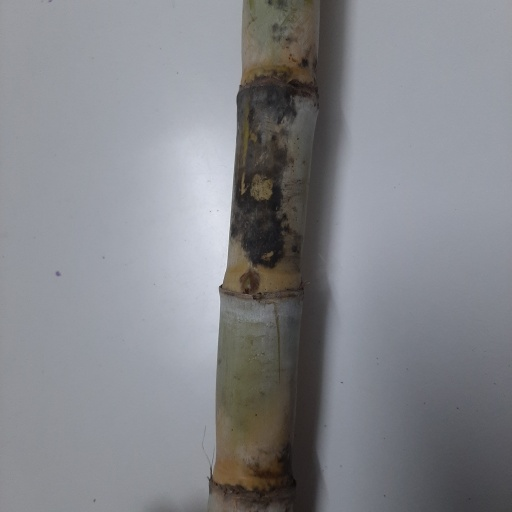Bud: (238, 270, 260, 295)
